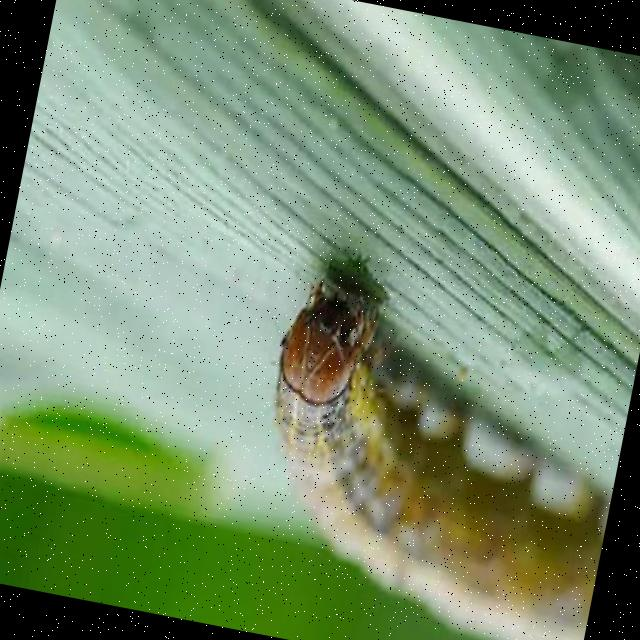worm: (226, 239, 640, 640)
